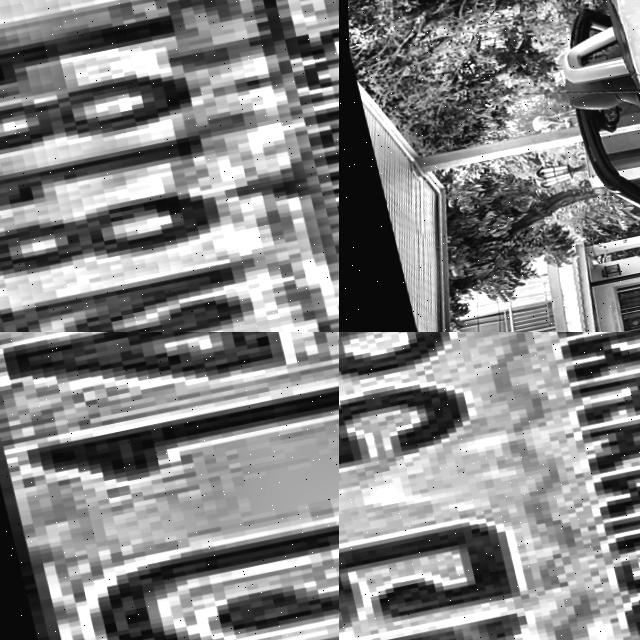license-plate: (0, 0, 339, 332), (0, 332, 339, 640), (339, 332, 640, 640)
